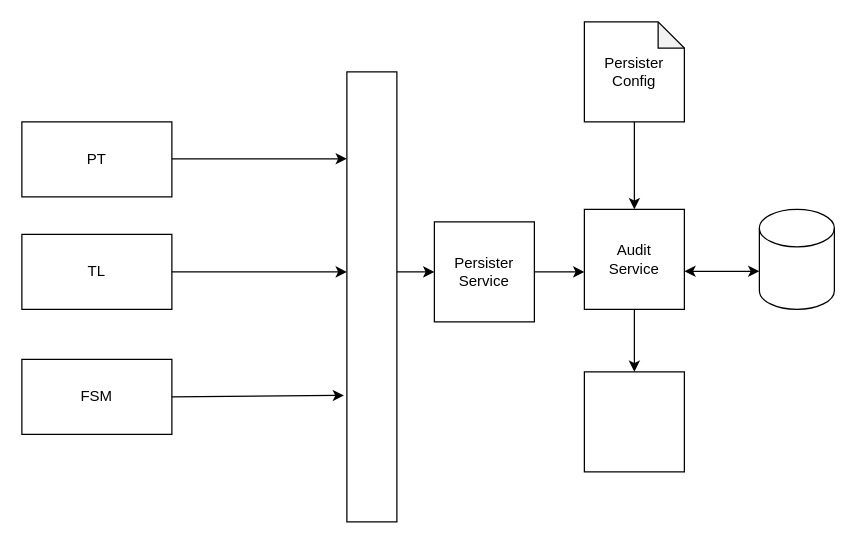
Image size: 856x544. Some labels were removed from this diagram. Each missing label, with the centre of its shape:
"DB" belongs at [796,258].
"Kafka Server" belongs at [371,296].
"Signing Service" belongs at [633,421].
